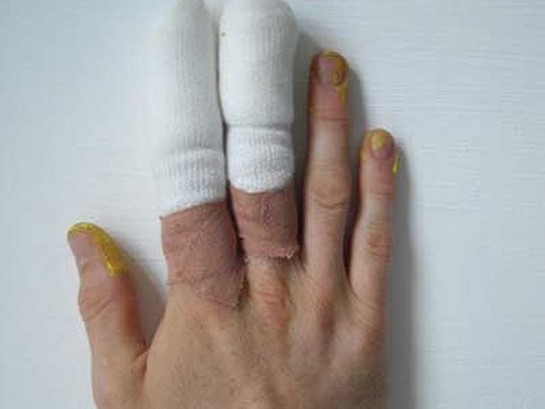injured: (81, 9, 384, 315)
